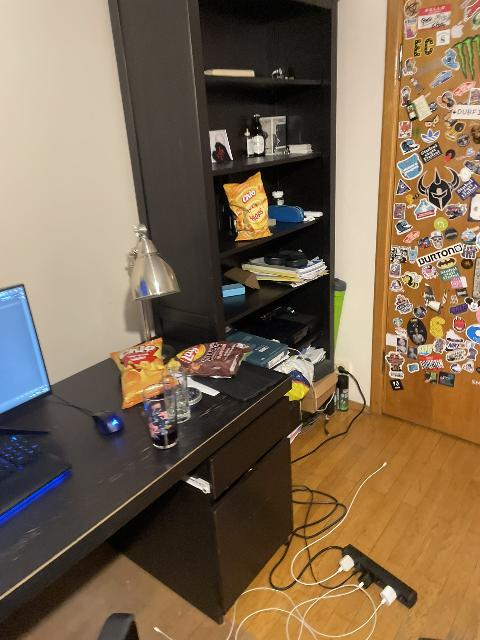Chio Cascaval 125g: (111, 336, 176, 406)
Chio Hula Hoops Cheese 70g: (223, 171, 273, 242)
Lays Beef Grilled Ribs 125g: (176, 341, 254, 377)
